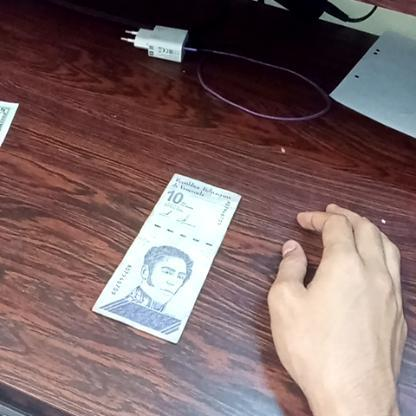ten-front-vef: (91, 172, 242, 344)
